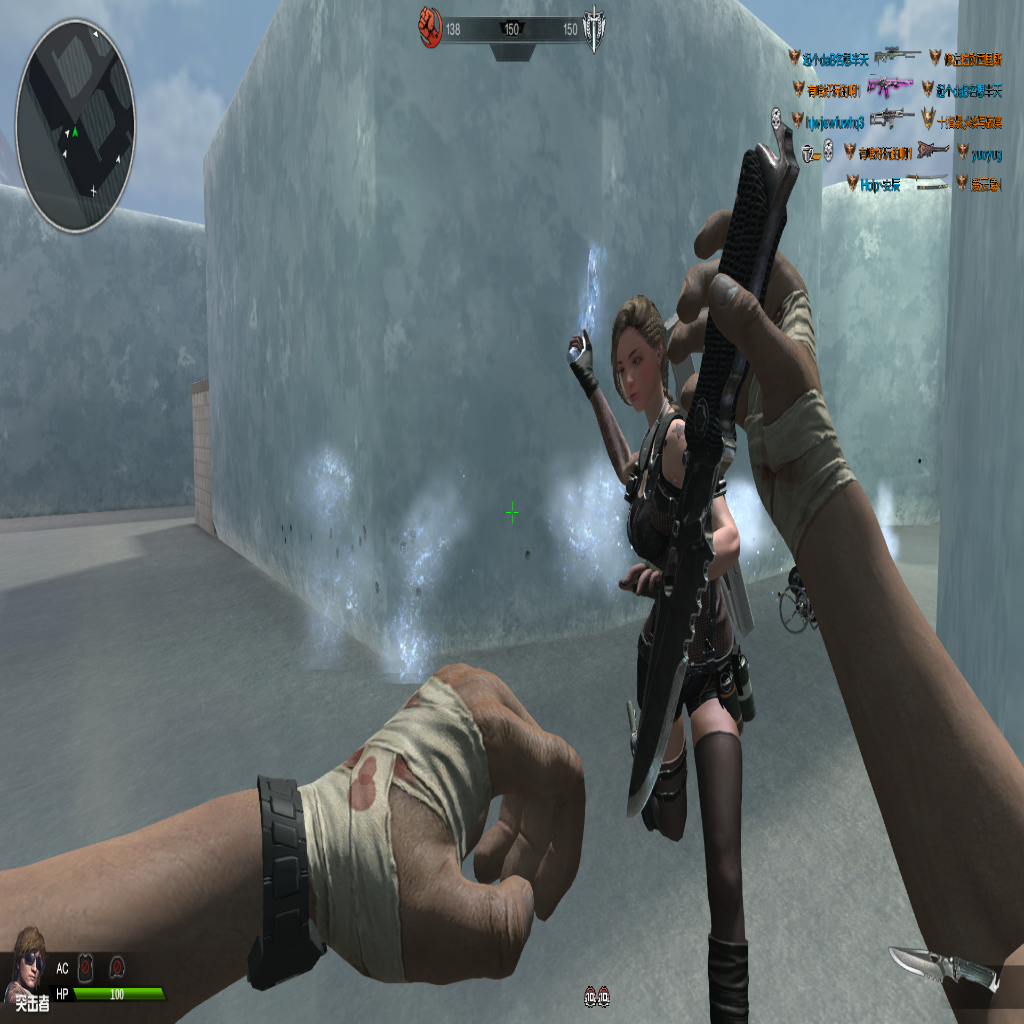ct: (617, 241, 753, 940)
